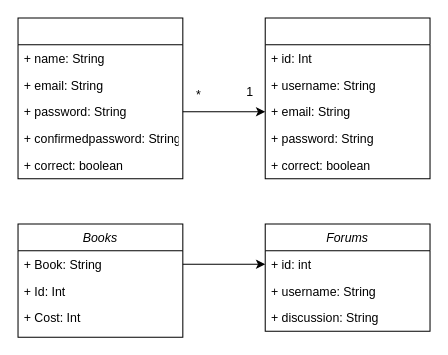
Some shapes in this 448 by 355 pixel diagram are drawn without their labels. Here are the shapes that lost their labels. From the top down, the box of each, then its label:
(17, 17, 183, 179): Account
(264, 17, 430, 179): Register
